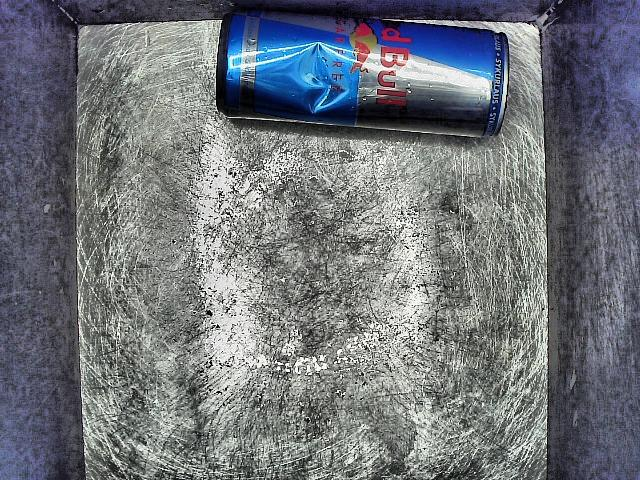Bottles: (203, 1, 525, 181)
